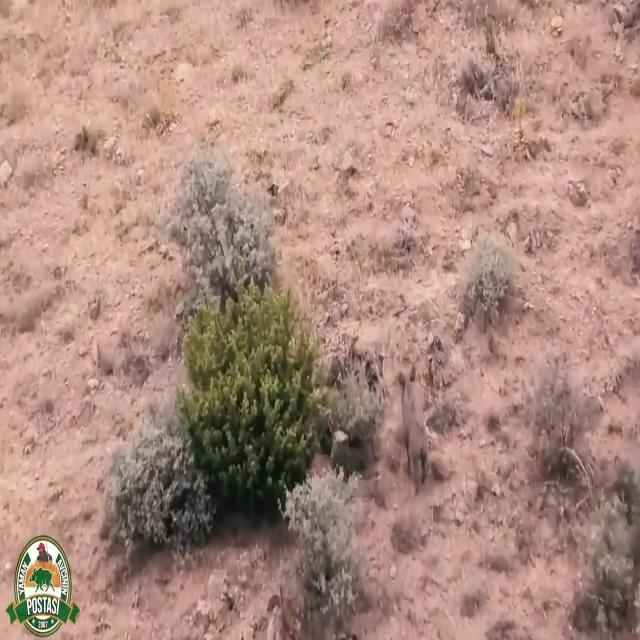pig: (388, 331, 442, 473)
